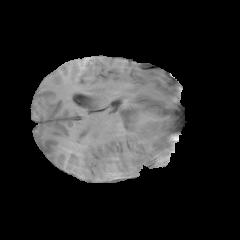glioma: (117, 102, 176, 175)
